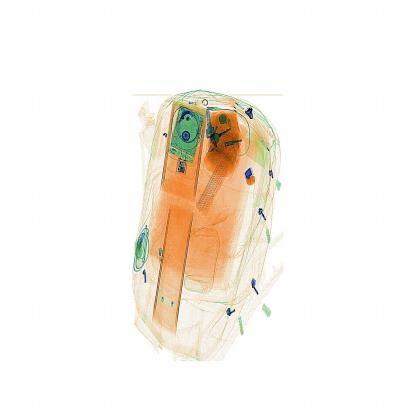wrench: (243, 164, 256, 191)
